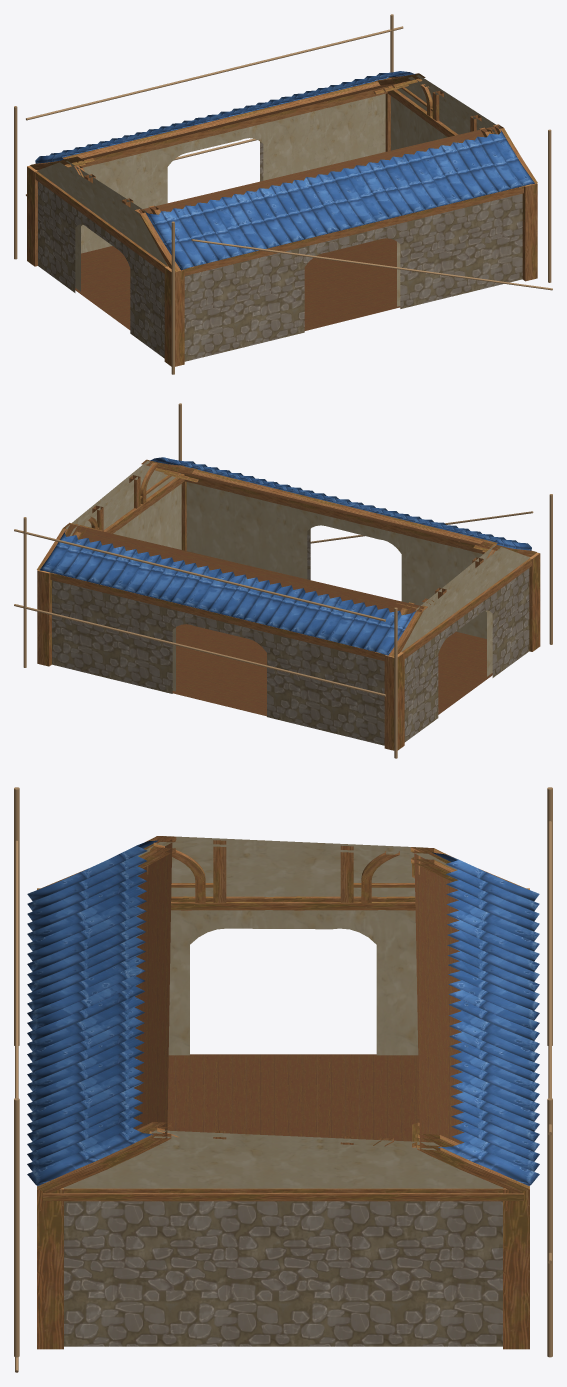
The model's file is Building6Whole_P3.glb.
3 renders of one model, top to bottom at view 1: azimuth 30°, elevation 25°; view 2: azimuth 150°, elevation 25°; view 3: azimuth 270°, elevation 25°, orthographic. The views are drawn at different scales.
Parts seen in each view (by area): view 1: Building6Whole_P3; view 2: Building6Whole_P3; view 3: Building6Whole_P3.
Boxes of the visible parts, box(x1,y1,x2,y2) form: Building6Whole_P3: box(14, 14, 552, 374); Building6Whole_P3: box(14, 403, 552, 758); Building6Whole_P3: box(14, 787, 552, 1372).
Size of the model in its own units: 13.43 by 5.3 by 9.54.
Materials: 6 (5 with a texture image).
